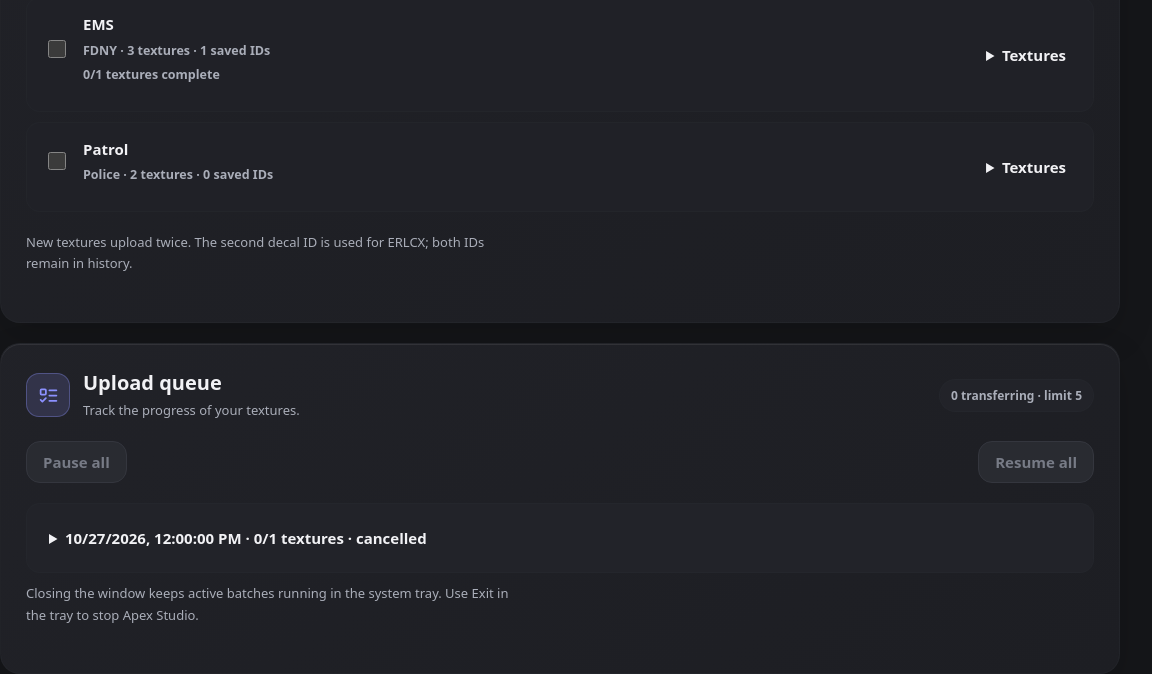
Test: deletes a cancelled upload batch after confirmation
The image size is (1152, 674).
(page scrolled)
Expected: the text "EMS" is shown, x1=83 y1=14 x2=114 y2=34
Click the heading "10/27/2026, 12:00:00 PM · 0/1 textures · cancelled": (246,538) x1=65 y1=528 x2=427 y2=548
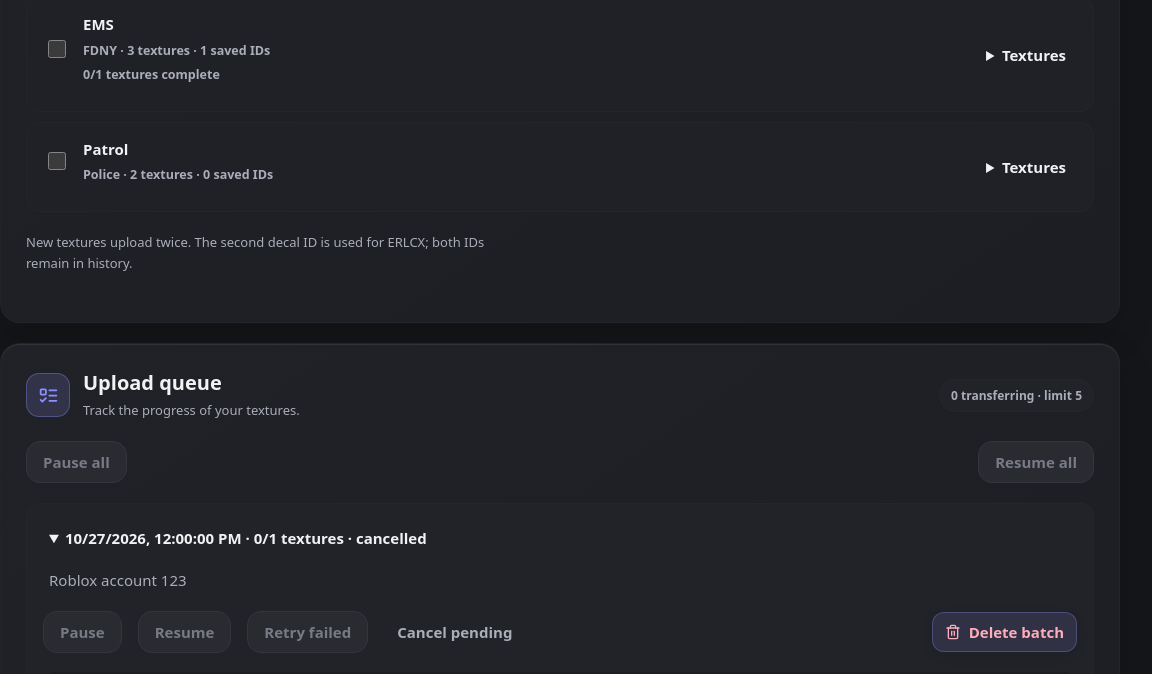
Click the button "Delete batch": (1004,632) x1=932 y1=612 x2=1077 y2=652
(page scrolled)
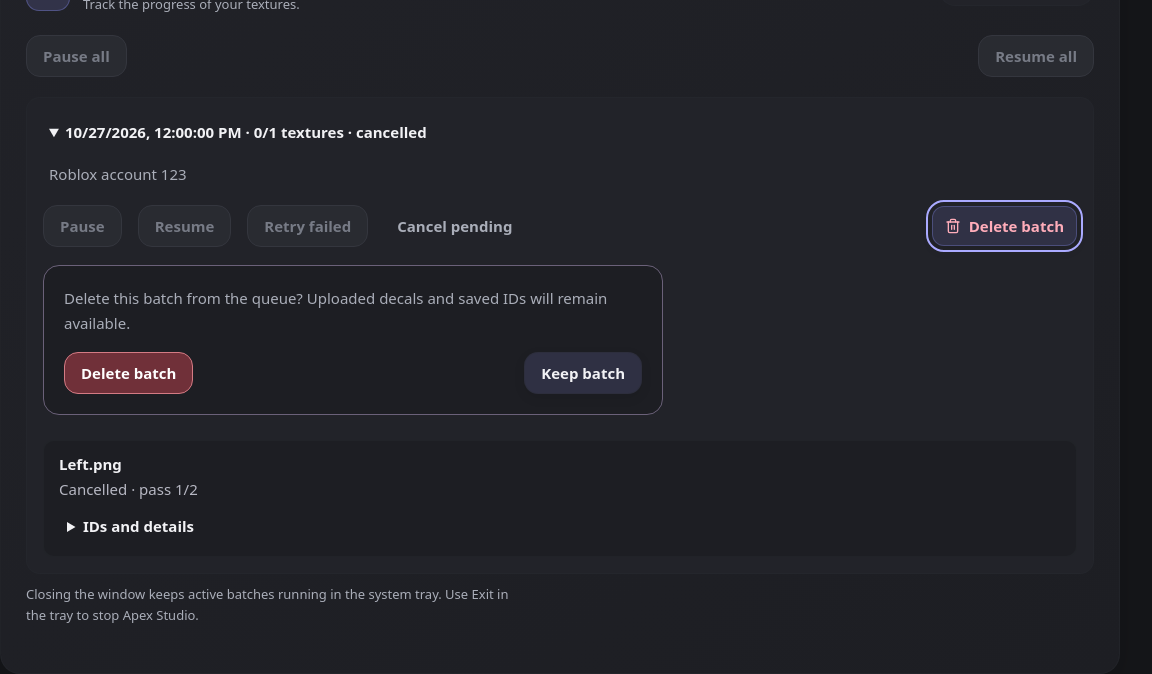
Click the 2nd button "Delete batch": (129,372) x1=64 y1=352 x2=193 y2=394
(page scrolled)
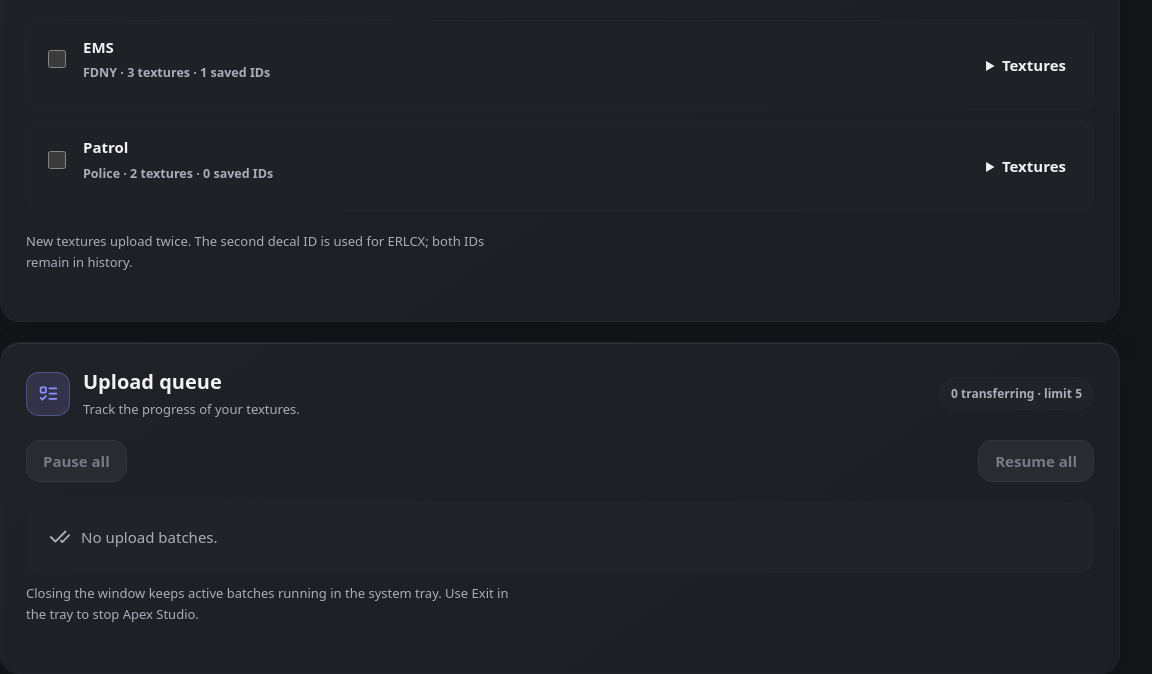
Expected: the text "No upload batches." is shown, x1=26 y1=502 x2=1094 y2=573
